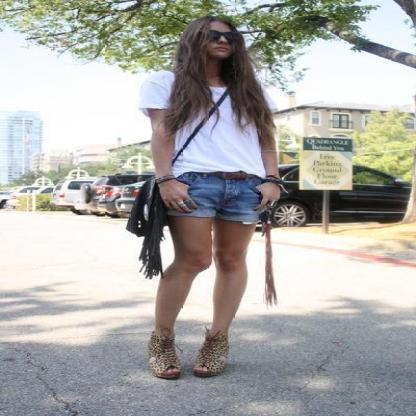shirt: (142, 70, 264, 178)
shoe: (146, 332, 228, 380)
shorts: (162, 171, 270, 224)
